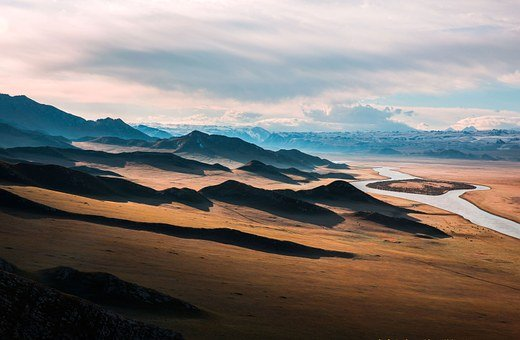mountain: (11, 102, 520, 336)
sky: (5, 3, 520, 133)
